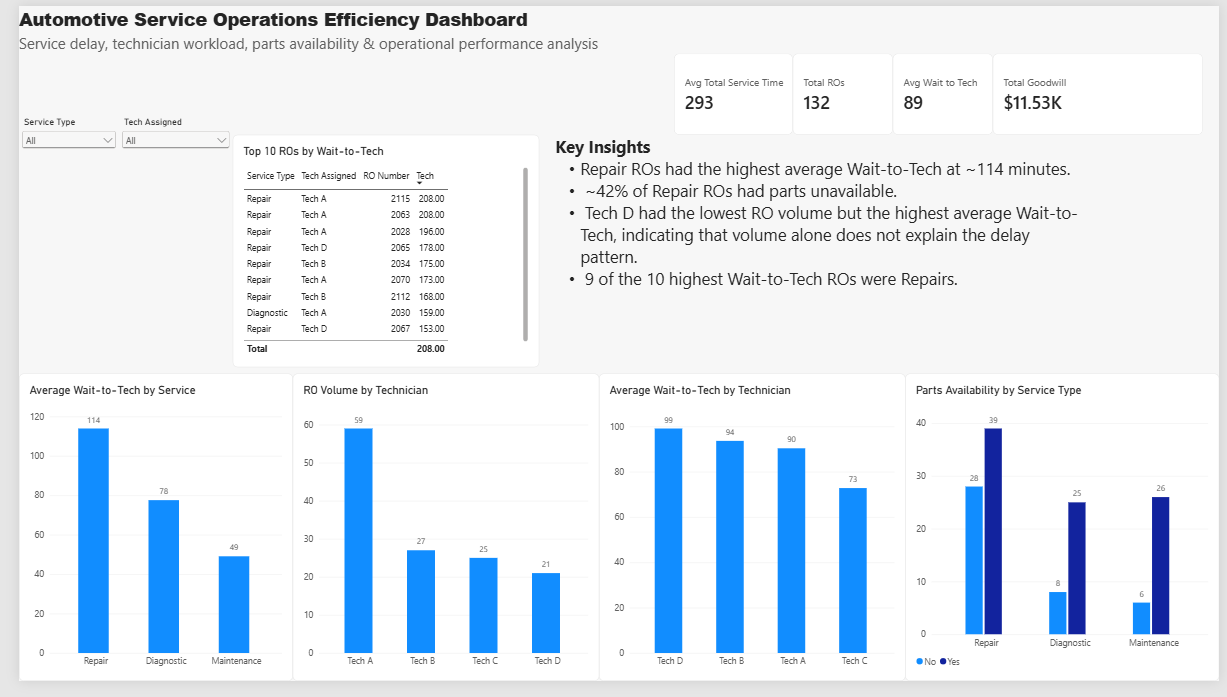

This screenshot's page, from the dashboard's own definition file:
{"tool":"powerbi","page":{"name":"Page 1","canvas":[1920,1080],"ordinal":0},"visuals":[{"type":"cardVisual","fields":{"Data":["ServiceOrdersTable.Avg Total Service Time"]},"box":[1048,76,190,130],"z":1},{"type":"cardVisual","fields":{"Data":["ServiceOrdersTable.Total Goodwill"]},"box":[1558,76,336.7,130],"z":2},{"type":"clusteredColumnChart","title":"Average Wait-to-Tech by Service","fields":{"Category":["ServiceOrdersTable.Service Type"],"Y":["ServiceOrdersTable.Avg Wait to Tech"]},"box":[0,588,438,492],"z":3},{"type":"clusteredColumnChart","title":"RO Volume by Technician","fields":{"Category":["ServiceOrdersTable.Tech Assigned"],"Y":["ServiceOrdersTable.Total ROs"]},"box":[438,588,490,492],"z":4},{"type":"clusteredColumnChart","title":"Average Wait-to-Tech by Technician","fields":{"Category":["ServiceOrdersTable.Tech Assigned"],"Y":["ServiceOrdersTable.Avg Wait to Tech"]},"box":[928,588,490,492],"z":5},{"type":"clusteredColumnChart","title":"Parts Availability by Service Type","fields":{"Category":["ServiceOrdersTable.Service Type"],"Series":["ServiceOrdersTable.Parts Available"],"Y":["ServiceOrdersTable.Total ROs"]},"box":[1418,588,502,492],"z":6},{"type":"tableEx","title":"Top 10 ROs by Wait-to-Tech","fields":{"Values":["ServiceOrdersTable.Service Type","ServiceOrdersTable.Tech Assigned","ServiceOrdersTable.RO Number","ServiceOrdersTable.Max Wait to Tech"]},"box":[342,206,490,372],"z":7},{"type":"textbox","title":"Automotive Service Operations Efficiency Dashboard","box":[0,0,1018,152],"z":10},{"type":"slicer","fields":{"Values":["ServiceOrdersTable.Service Type"]},"box":[0,176,160,78],"z":11},{"type":"slicer","fields":{"Values":["ServiceOrdersTable.Tech Assigned"]},"box":[160,176,182,78],"z":12},{"type":"cardVisual","fields":{"Data":["ServiceOrdersTable.Total ROs"]},"box":[1238,76,160,130],"z":13},{"type":"cardVisual","fields":{"Data":["ServiceOrdersTable.Avg Wait to Tech"]},"box":[1398,76,160,130],"z":14},{"type":"textbox","box":[857.5,205,842.5,335],"z":15}]}

Visuals, with their boxes in screenshot pixels (x1, y1, x2, y2), scaled from the page's 1920x1080 canvas onto the 1227x697 screenshot:
cardVisual - ServiceOrdersTable.Avg Total Service Time: <bbox>670, 49, 791, 133</bbox>
cardVisual - ServiceOrdersTable.Total Goodwill: <bbox>996, 49, 1211, 133</bbox>
"Average Wait-to-Tech by Service" clusteredColumnChart: <bbox>0, 379, 280, 696</bbox>
"RO Volume by Technician" clusteredColumnChart: <bbox>280, 379, 593, 696</bbox>
"Average Wait-to-Tech by Technician" clusteredColumnChart: <bbox>593, 379, 906, 696</bbox>
"Parts Availability by Service Type" clusteredColumnChart: <bbox>906, 379, 1226, 696</bbox>
"Top 10 ROs by Wait-to-Tech" tableEx: <bbox>219, 133, 532, 373</bbox>
"Automotive Service Operations Efficiency Dashboard" textbox: <bbox>0, 0, 651, 98</bbox>
slicer - ServiceOrdersTable.Service Type: <bbox>0, 114, 102, 164</bbox>
slicer - ServiceOrdersTable.Tech Assigned: <bbox>102, 114, 219, 164</bbox>
cardVisual - ServiceOrdersTable.Total ROs: <bbox>791, 49, 893, 133</bbox>
cardVisual - ServiceOrdersTable.Avg Wait to Tech: <bbox>893, 49, 996, 133</bbox>
textbox: <bbox>548, 132, 1086, 348</bbox>
